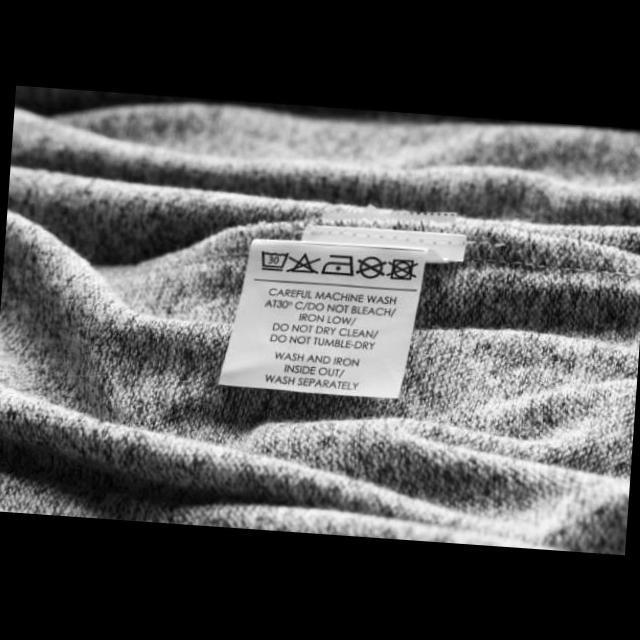30C: (257, 248, 289, 273)
DN_bleach: (284, 249, 322, 276)
DN_dry_clean: (354, 252, 388, 282)
DN_tumble_dry: (384, 256, 419, 283)
iron_low: (319, 250, 356, 278)
